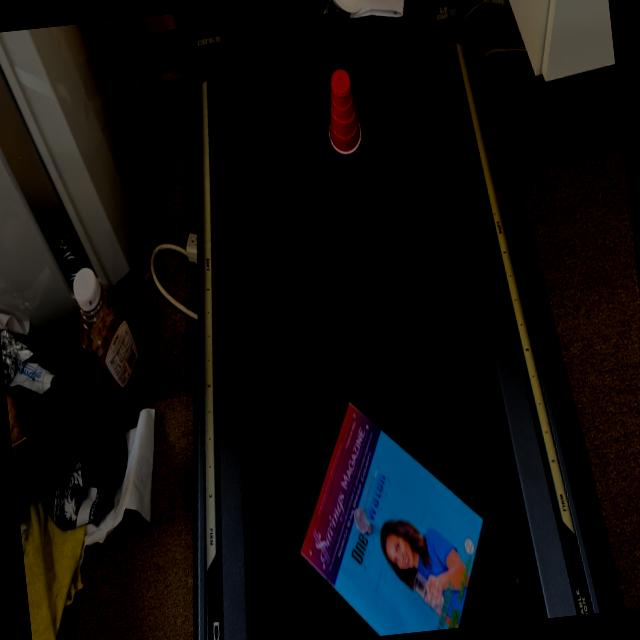Recycle: (280, 386, 496, 640), (322, 68, 366, 158)
